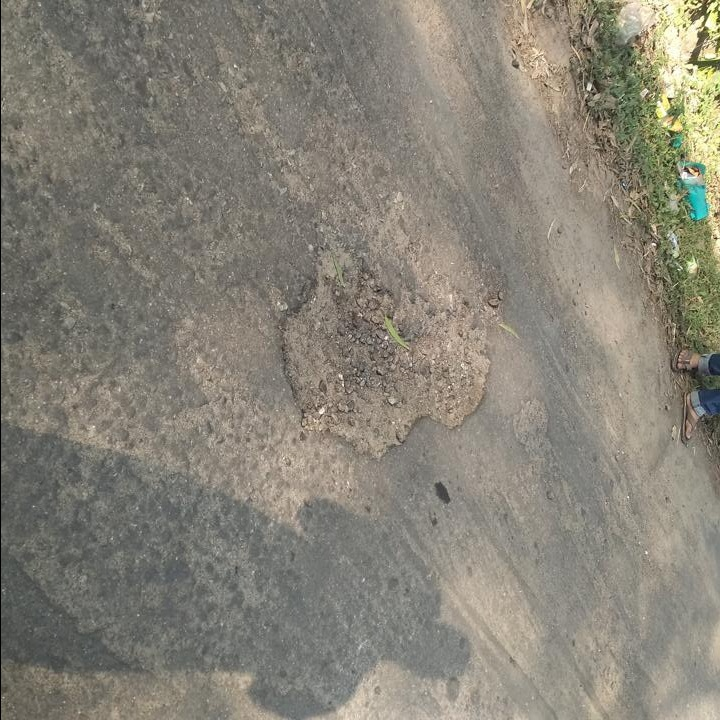pothole: (274, 237, 502, 464), (510, 396, 554, 462)
